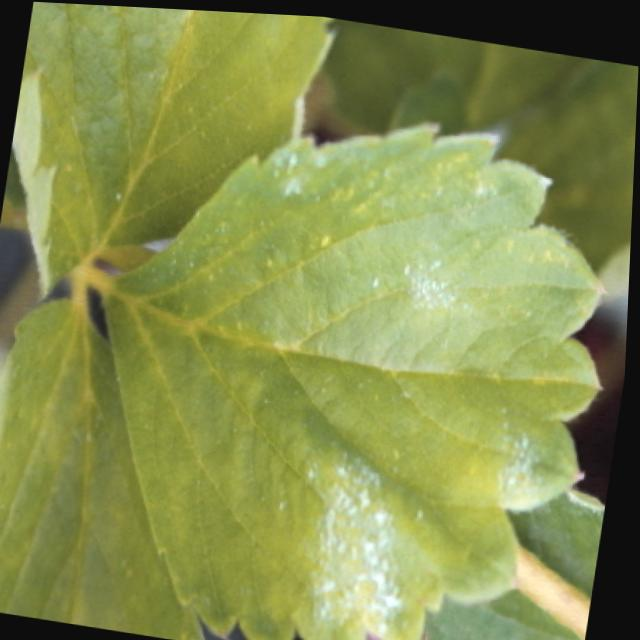Powdery Mildew Leaf: (102, 118, 608, 640), (12, 1, 337, 301)
